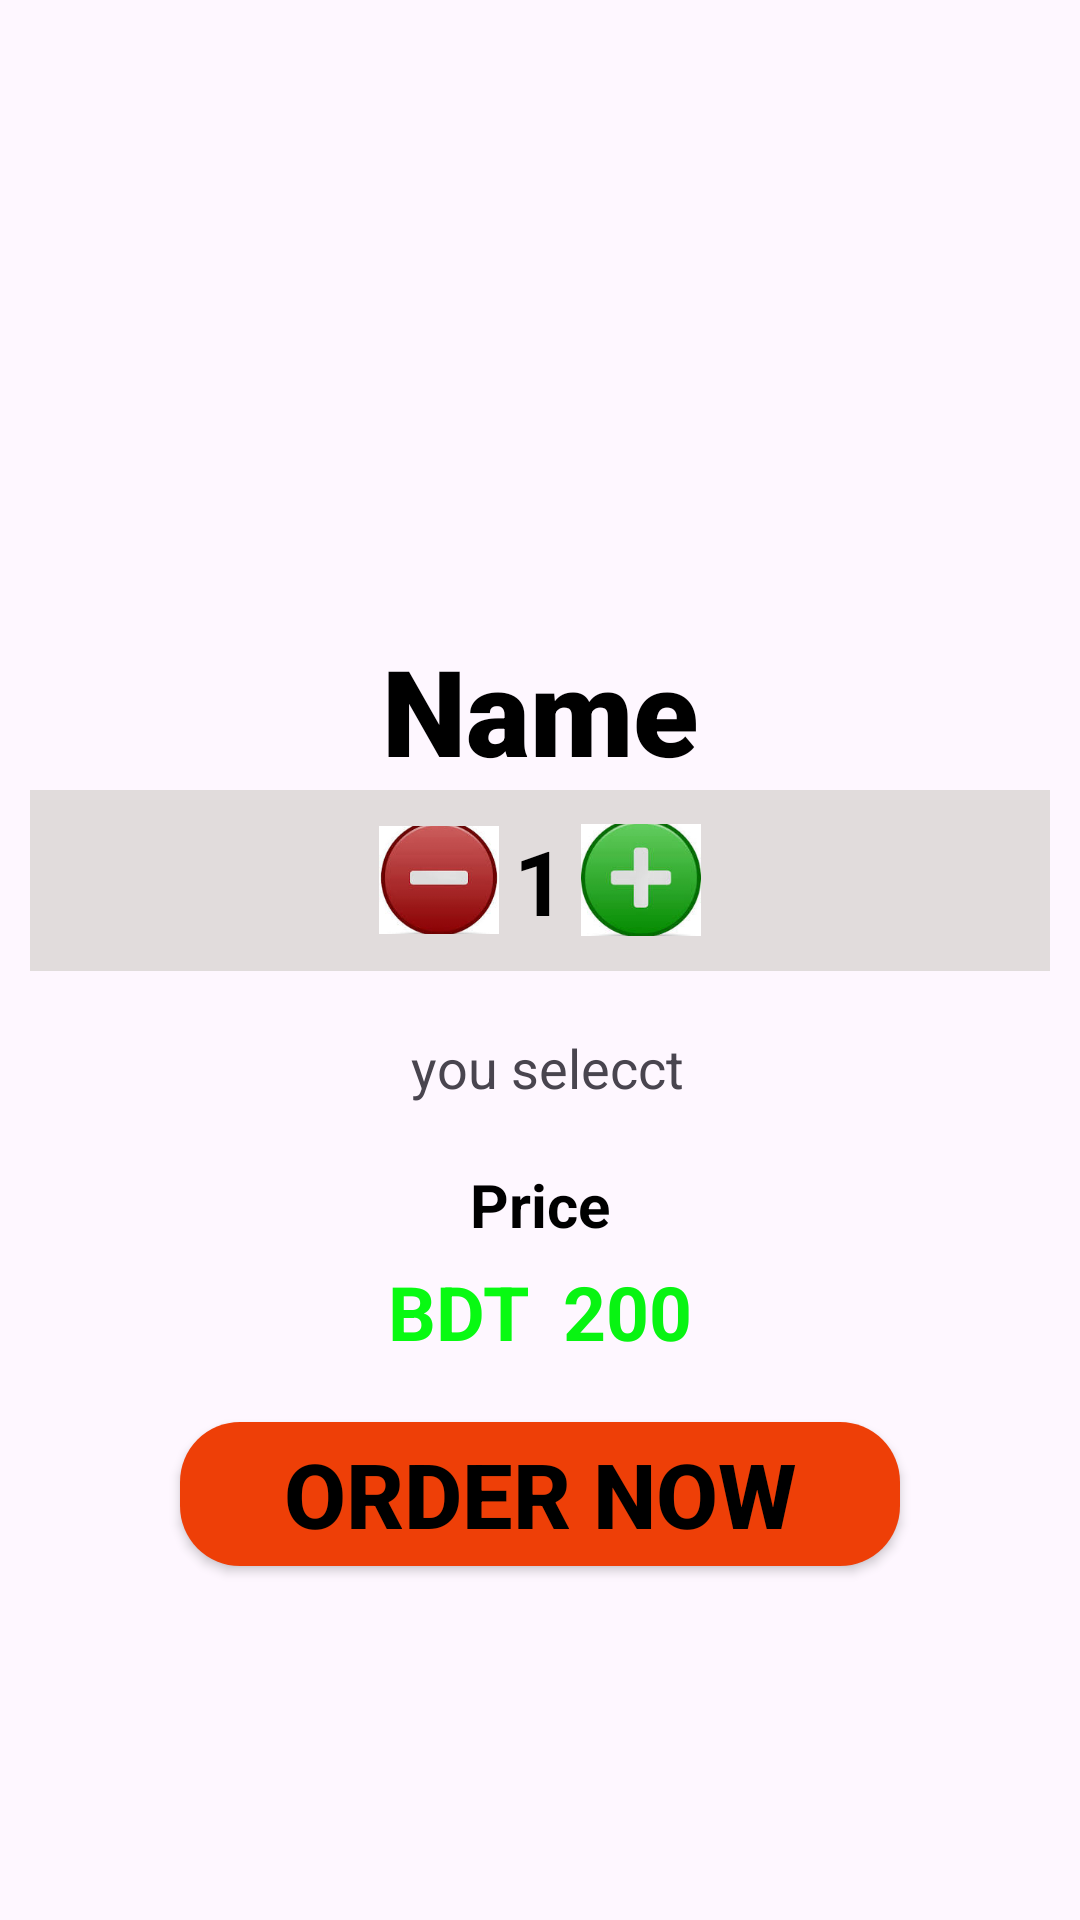

Screen size 1080w x 1920h. Icon name, then its box in pixels as (x1, y1, x2, y2):
decrement: (379, 826, 499, 934)
incremen: (581, 824, 701, 936)
